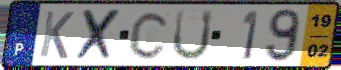1: (241, 9, 260, 62)
9: (263, 8, 303, 64)
C: (127, 9, 172, 61)
K: (37, 9, 76, 61)
U: (170, 9, 216, 63)
X: (74, 8, 124, 62)
